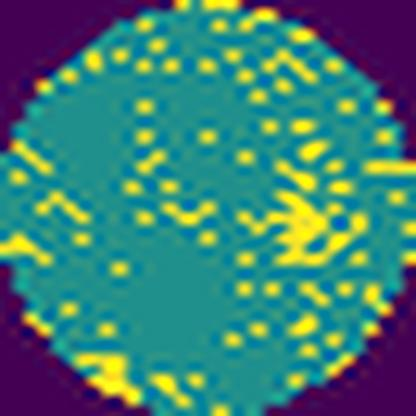Edge-Loc: (236, 184, 370, 270)
